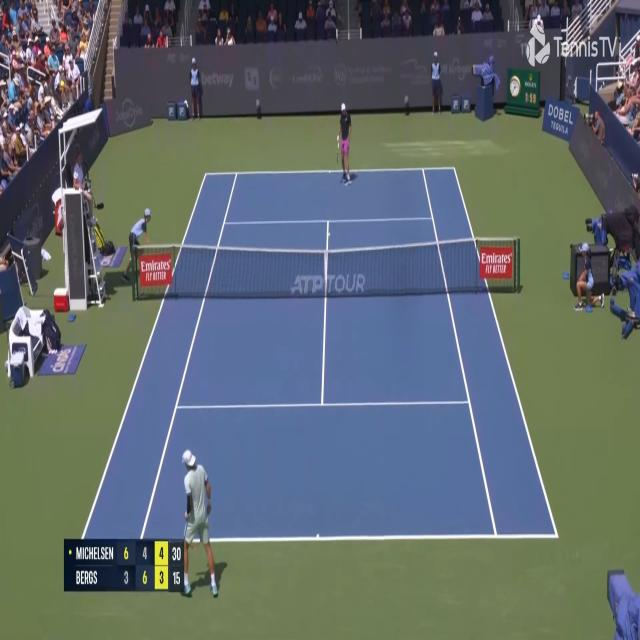tennis-player: (182, 447, 227, 604), (335, 100, 352, 186)
